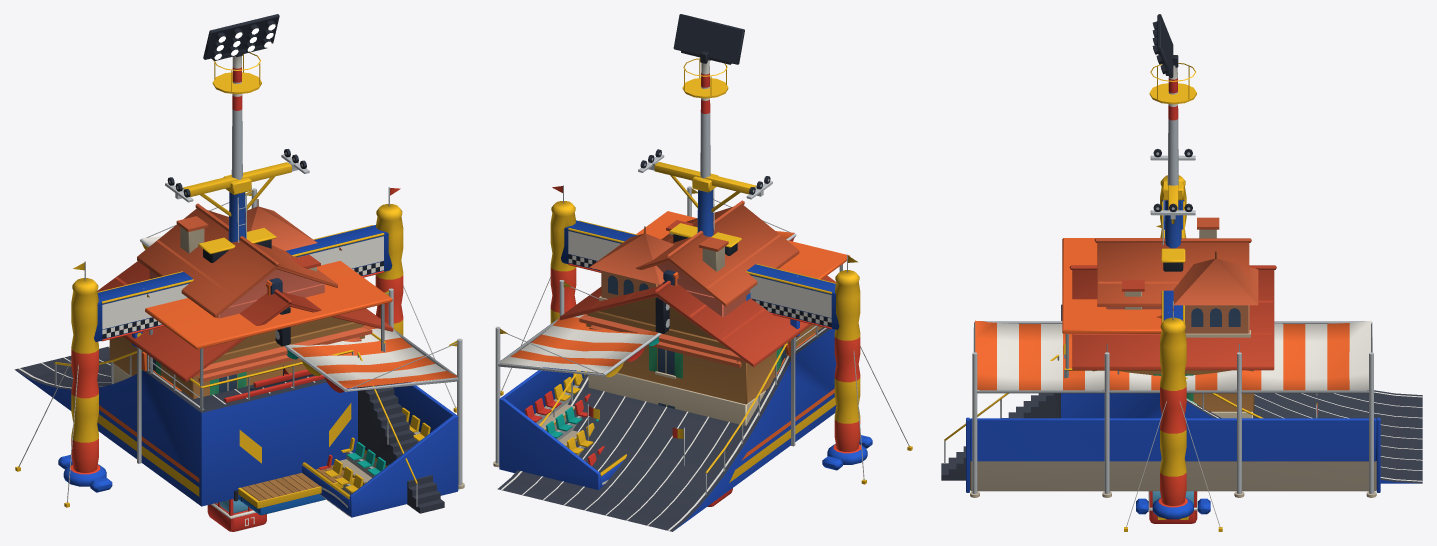
Rendered from venue.glb.
3 renders of one model, left to right at view 1: azimuth 30°, elevation 25°; view 2: azimuth 150°, elevation 25°; view 3: azimuth 270°, elevation 25°, orthographic. The views are drawn at different scales.
Parts seen in each view (by area): view 1: bmxstarthill Hill asphalt, arch Arch blue, house1 House roof cf5a33, grandstand Stand blue, bmxstarthill Hill orange, house2 House roof c4462c, grandstand Canopy orange, house2 House timber, ArchBanner, bmxstarthill Hill cream, grandstand Stand steel, house3 House roof d2603a (+18 smaller); view 2: bmxstarthill Hill asphalt, arch Arch blue, house1 House roof cf5a33, house2 House timber, house2 House roof c4462c, grandstand Stand blue, grandstand Canopy orange, bmxstarthill Hill cream, house2 House wall f3e2c2, house3 House roof d2603a, ArchBannerBack, grandstand Stand steel (+17 smaller); view 3: grandstand Stand blue, grandstand Canopy orange, bmxstarthill Hill asphalt, grandstand Stand concrete, house2 House roof c4462c, house1 House roof cf5a33, arch Arch blue, grandstand Stand steel, bmxstarthill Hill orange, house3 House roof d2603a, house3 House tower, house2 House timber (+6 smaller).
Boxes of the visible parts, box(x1,y1,x2,y2) form: bmxstarthill Hill asphalt: box(14, 346, 444, 513); arch Arch blue: box(58, 204, 403, 492); house1 House roof cf5a33: box(137, 203, 337, 317); grandstand Stand blue: box(302, 382, 458, 517); bmxstarthill Hill orange: box(141, 260, 392, 371); house2 House roof c4462c: box(97, 254, 393, 381); grandstand Canopy orange: box(142, 236, 456, 388); house2 House timber: box(109, 307, 364, 398); ArchBanner: box(102, 236, 383, 329); bmxstarthill Hill cream: box(18, 346, 351, 496); grandstand Stand steel: box(140, 188, 462, 494); house3 House roof d2603a: box(198, 199, 361, 381); bmxstarthill Hill asphalt: box(497, 327, 836, 531); arch Arch blue: box(550, 201, 872, 470); house1 House roof cf5a33: box(635, 200, 799, 306); house2 House timber: box(586, 297, 822, 404); house2 House roof c4462c: box(560, 220, 836, 367); grandstand Stand blue: box(499, 367, 623, 489); grandstand Canopy orange: box(500, 231, 794, 372); bmxstarthill Hill cream: box(501, 327, 835, 530); house2 House wall f3e2c2: box(588, 371, 765, 425); house3 House roof d2603a: box(589, 226, 741, 367); ArchBannerBack: box(568, 231, 831, 317); grandstand Stand steel: box(495, 186, 796, 463); grandstand Stand blue: box(966, 417, 1380, 492); grandstand Canopy orange: box(975, 320, 1371, 390); bmxstarthill Hill asphalt: box(941, 304, 1422, 483); grandstand Stand concrete: box(970, 461, 1376, 497); house2 House roof c4462c: box(1069, 265, 1276, 370); house1 House roof cf5a33: box(1094, 217, 1251, 306); arch Arch blue: box(1136, 175, 1210, 519); grandstand Stand steel: box(972, 321, 1373, 493); bmxstarthill Hill orange: box(1062, 238, 1161, 333); house3 House roof d2603a: box(1173, 251, 1258, 326); house3 House tower: box(1185, 305, 1249, 333); house2 House timber: box(1092, 370, 1254, 411).
Bounding box in the file's own units: 17.56 × 21.54 × 19.3.
